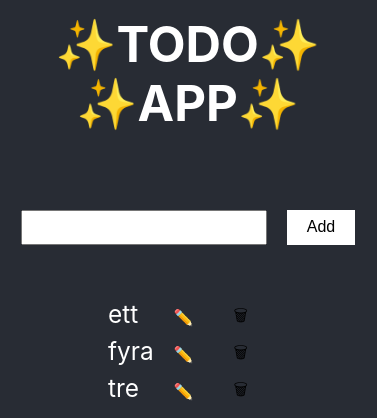
Edit › edits a value
The image size is (377, 418).
Click the button with test id "edit" next to "fyra": (184, 355) [154,336,214,373]
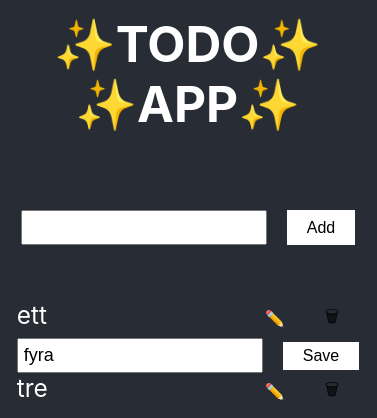
Check: the form with test id "edit-form" is shown, box [17,337,360,373]
Replace the text in the field below "ett" with "två": (140, 356) [17,338,263,373]
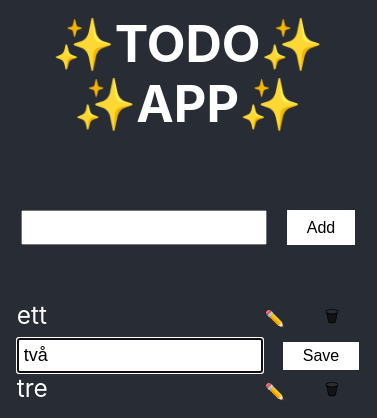
Submit the form with test id "edit-form", box [17,337,360,373]
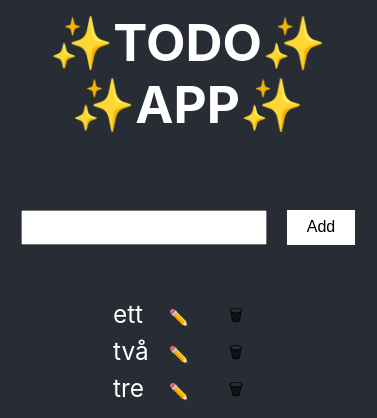
Check: the text with test id "item" does not show "fyra"
Check: the text with test id "item" reads "två", box [113,336,149,366]
Check: the form with test id "edit-form" is gone
